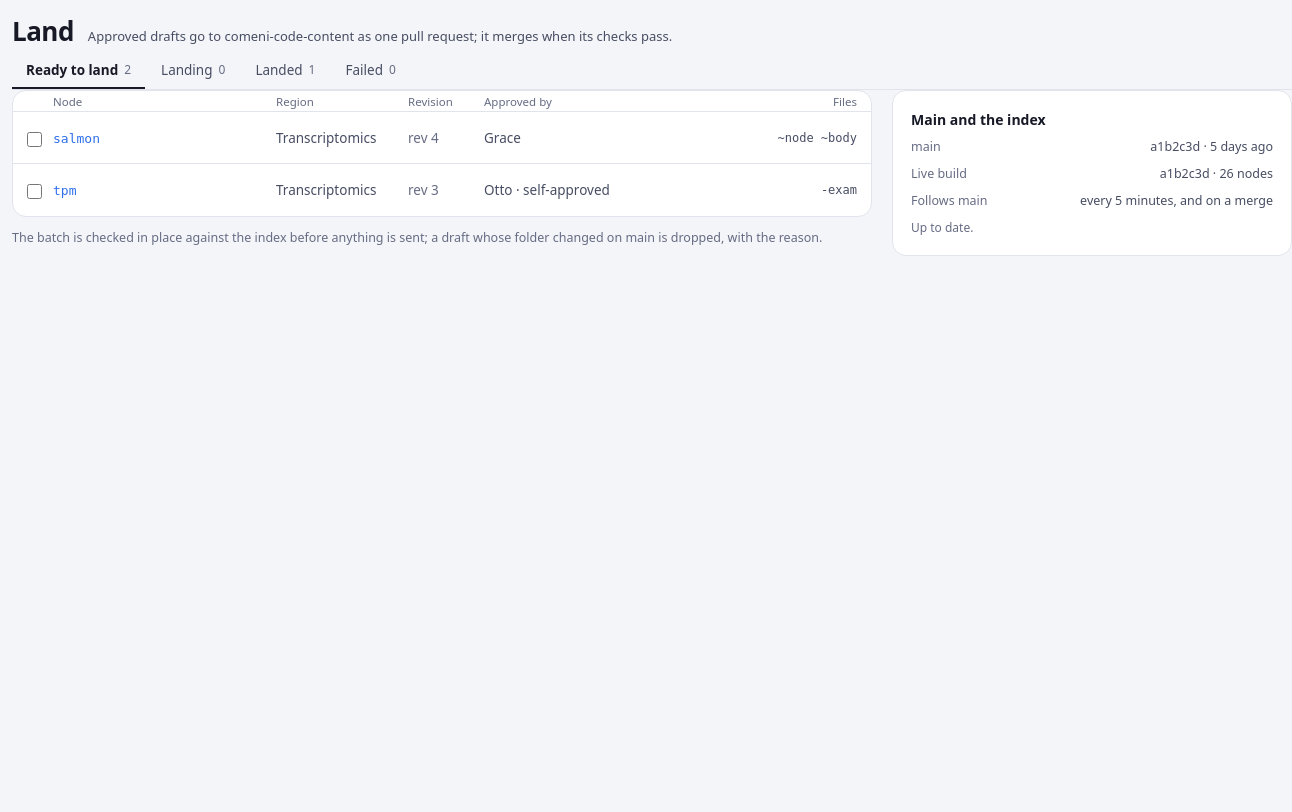
Test case: LandPage — the landings › lists a view's landings and shows the one picked
Click the tab "Landed 1".
click(285, 70)  # box [241,51,330,89]
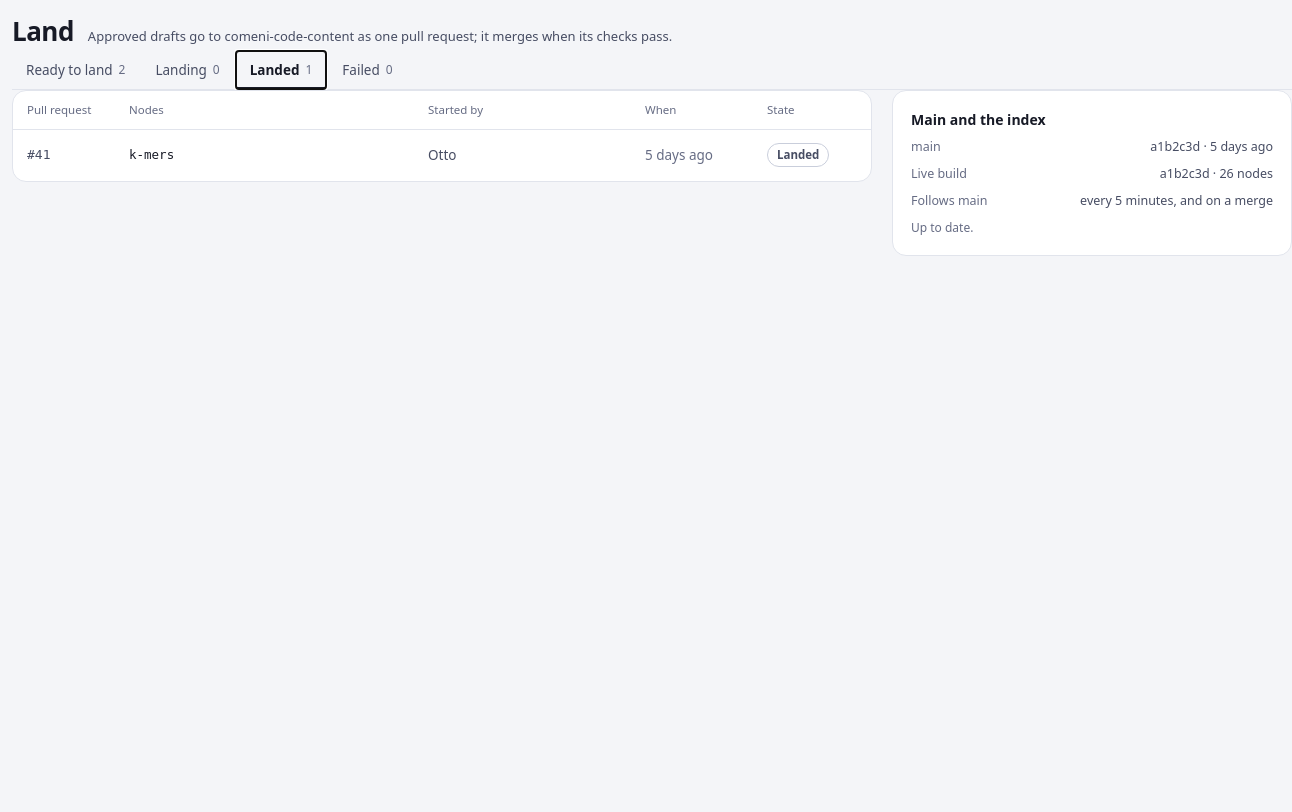
Click the button "#41 k-mers Otto 5 days ago Landed".
click(442, 154)  # box [13,128,871,180]
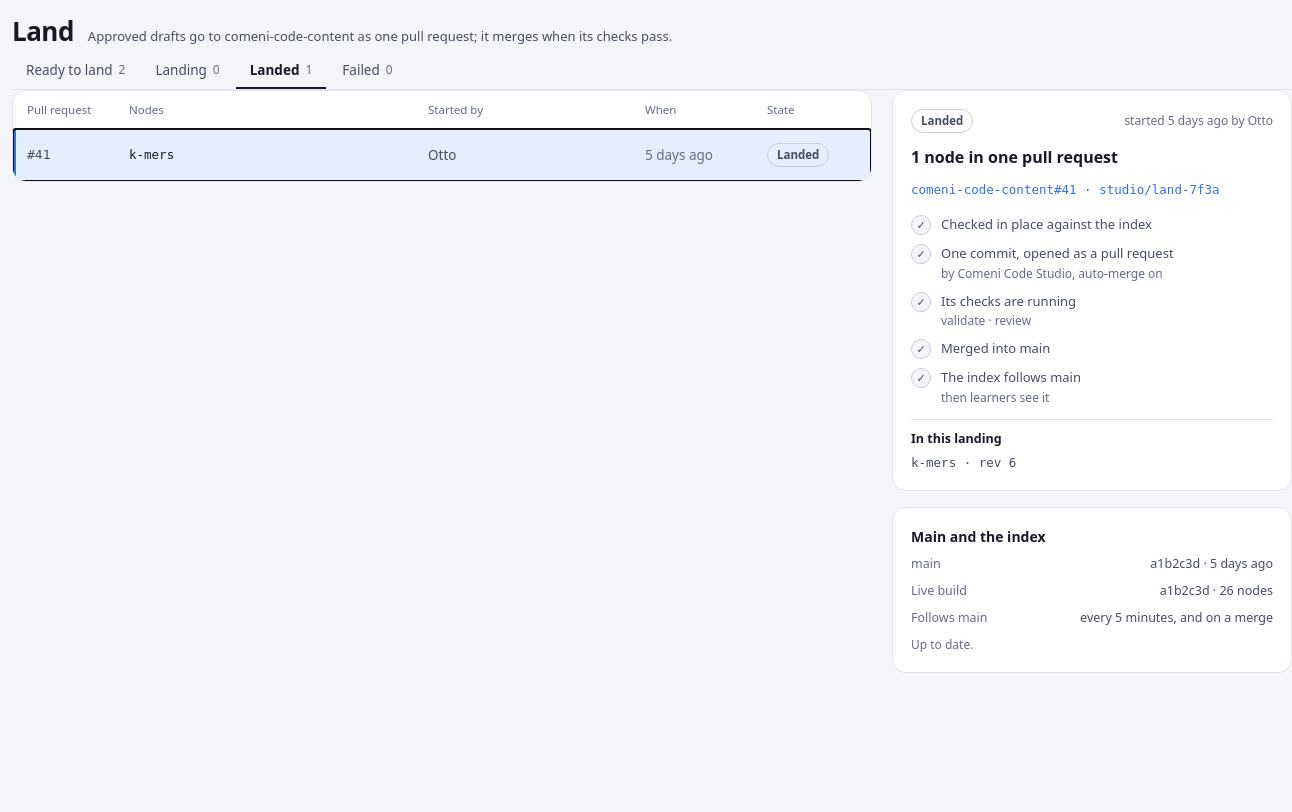
Result: the text "1 node in one pull request" is shown at [911,146,1118,168]
Result: the text "The index follows main" is shown once at [941,368,1081,388]
